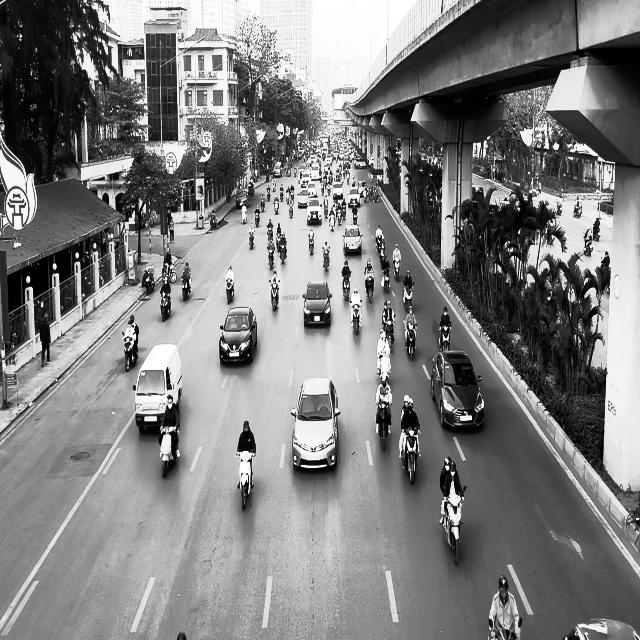car: (290, 377, 340, 470), (132, 343, 182, 434), (431, 350, 484, 429), (219, 306, 257, 364), (562, 618, 640, 640), (302, 280, 332, 327), (342, 224, 363, 255), (306, 197, 322, 224)
motorbike: (442, 485, 466, 565), (158, 425, 180, 478), (236, 450, 255, 510), (401, 426, 420, 484), (487, 616, 522, 640), (376, 402, 391, 450), (122, 330, 138, 372), (404, 322, 417, 360), (350, 300, 362, 335), (438, 324, 452, 352), (160, 290, 171, 322), (382, 316, 394, 345), (142, 266, 154, 295), (403, 282, 414, 310), (182, 272, 192, 300), (270, 280, 279, 310), (365, 275, 374, 303), (342, 272, 351, 300), (381, 266, 390, 292), (583, 232, 593, 255), (226, 277, 234, 304), (266, 243, 274, 270), (322, 249, 330, 270), (573, 202, 582, 218), (592, 222, 600, 240), (248, 229, 254, 250), (308, 235, 314, 254)
